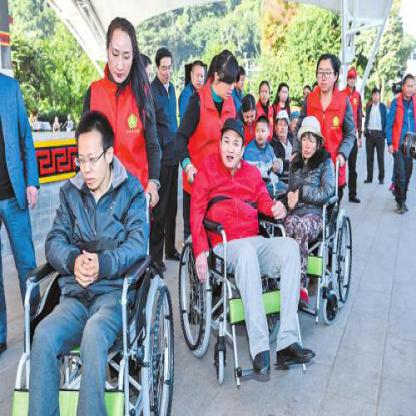wheelchair: (19, 106, 178, 415), (178, 121, 305, 381), (273, 118, 355, 324)
